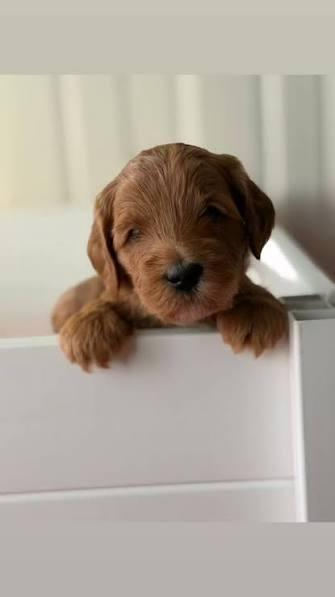puppy-dog: (50, 142, 291, 373)
